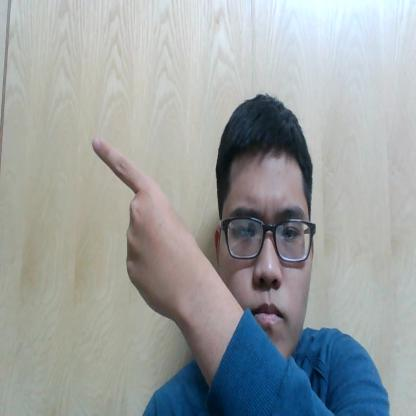right: (84, 123, 198, 345)
